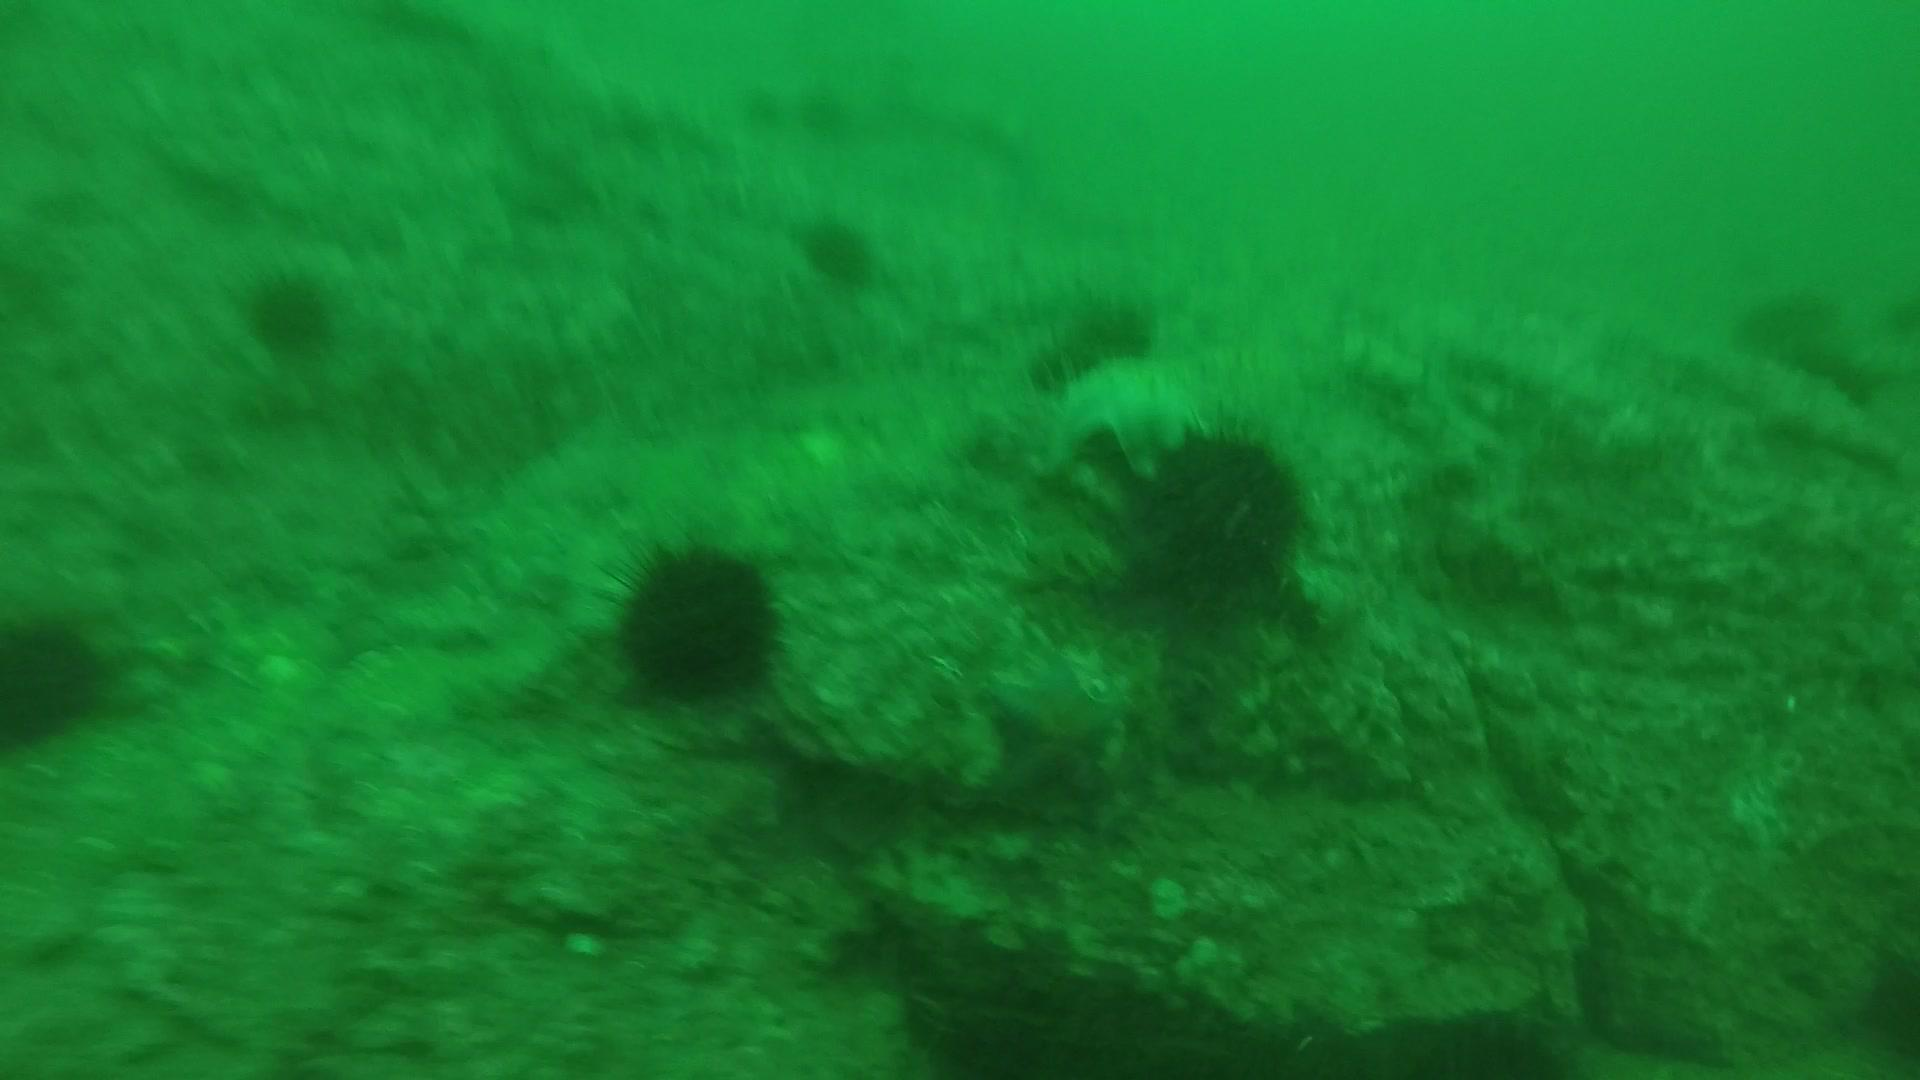urchin: (618, 543, 785, 712), (1, 611, 149, 760), (1021, 284, 1154, 389), (1844, 953, 1920, 1079), (245, 274, 338, 357), (800, 224, 880, 291), (1882, 301, 1920, 353)
